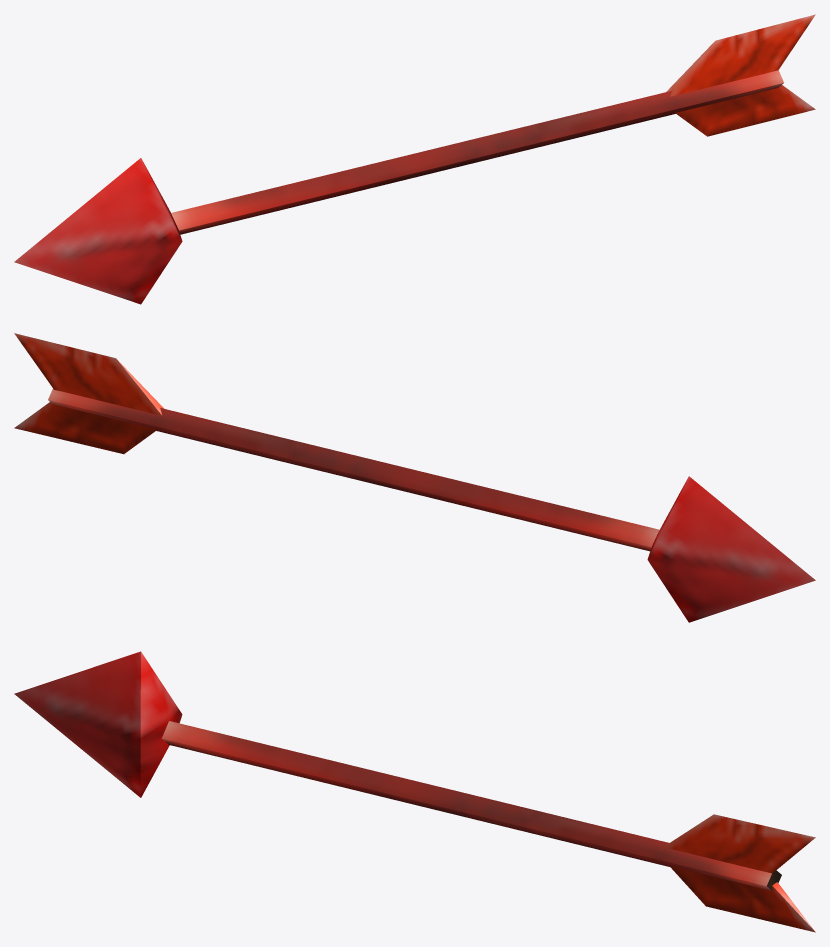
The model's file is B_Archer_Arrow_LV8.fbx.
The picture shows the model from 3 angles, top to bottom: view 1: azimuth 30°, elevation 25°; view 2: azimuth 150°, elevation 25°; view 3: azimuth 330°, elevation 25°; orthographic projection.
Visible parts, largest first — view 1: B_Archer:Archer_LV08_1_mesh; view 2: B_Archer:Archer_LV08_1_mesh; view 3: B_Archer:Archer_LV08_1_mesh.
Boxes of the visible parts, bbox=[...] form: B_Archer:Archer_LV08_1_mesh: bbox=[14, 14, 815, 304]; B_Archer:Archer_LV08_1_mesh: bbox=[14, 333, 815, 622]; B_Archer:Archer_LV08_1_mesh: bbox=[14, 651, 815, 932].
Bounding box in the file's own units: 19.03 × 3.33 × 1.72.
